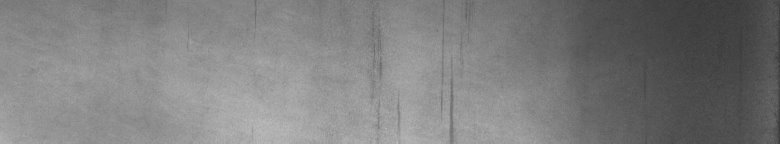ka: (374, 61, 456, 136)
